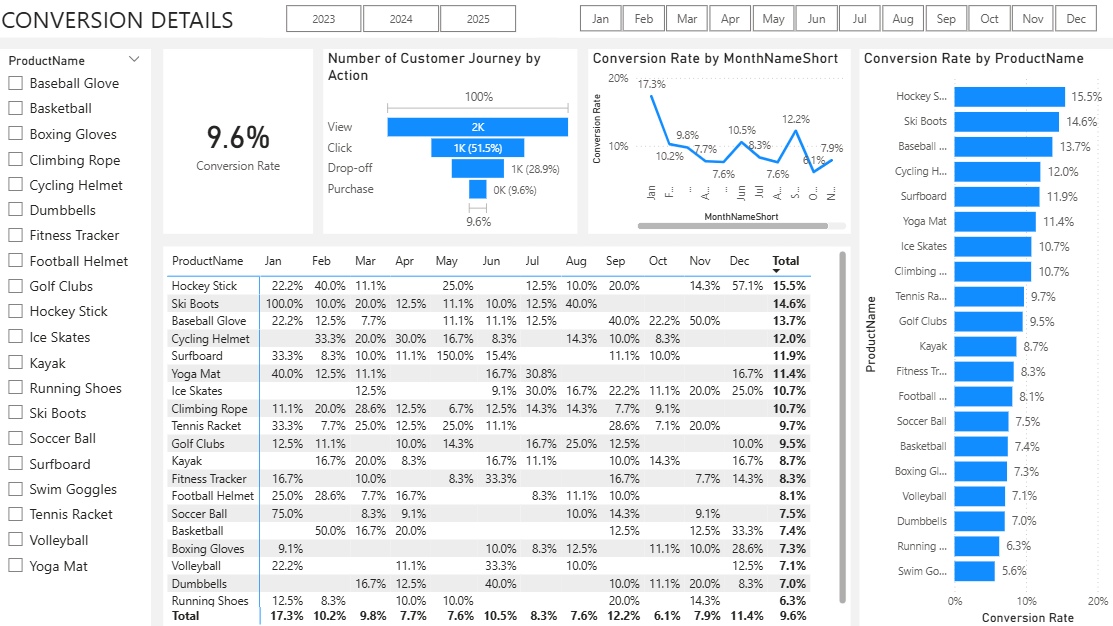

This screenshot's page, from the dashboard's own definition file:
{"tool":"powerbi","page":{"name":"Conversion Details","canvas":[1280,720],"ordinal":1},"visuals":[{"type":"textbox","box":[0,0,1280.3,44],"z":0},{"type":"card","fields":{"Values":["Calculations.Conversion Rate"]},"box":[190,57.1,171.4,211.4],"z":1000},{"type":"slicer","fields":{"Values":["Calendar.MonthNameShort"]},"box":[639.5,0,640.8,44],"z":2000},{"type":"lineChart","fields":{"Y":["Calculations.Conversion Rate"],"Category":["Calendar.MonthNameShort"]},"box":[675.7,57.1,300,211.4],"z":3000},{"type":"clusteredBarChart","fields":{"Category":["dim_products.ProductName"],"Y":["Calculations.Conversion Rate"]},"box":[985.7,57.1,294.3,662.9],"z":4000},{"type":"pivotTable","fields":{"Values":["Calculations.Conversion Rate"],"Rows":["dim_products.ProductName"],"Columns":["Calendar.MonthNameShort"]},"box":[190,282.9,785.7,437.1],"z":5000},{"type":"funnel","fields":{"Y":["Calculations.Number of Customer Journey"],"Category":["fact_customer_journey.Action"]},"box":[372.9,57.1,290,211.4],"z":6000},{"type":"slicer","fields":{"Values":["dim_products.ProductName"]},"box":[0,57.1,175.7,662.9],"z":7000},{"type":"slicer","fields":{"Values":["Calendar.Year"]},"box":[304.3,0,312.9,44.3],"z":8000}]}

Visuals, with their boxes in screenshot pixels (x1, y1, x2, y2), scaled from the page's 1280x720 canvas onto the 1113x626 screenshot:
textbox: rect(0, 0, 1112, 38)
card - Calculations.Conversion Rate: rect(165, 50, 314, 233)
slicer - Calendar.MonthNameShort: rect(556, 0, 1112, 38)
lineChart - Calculations.Conversion Rate x Calendar.MonthNameShort: rect(588, 50, 848, 233)
clusteredBarChart - dim_products.ProductName x Calculations.Conversion Rate: rect(857, 50, 1112, 625)
pivotTable - Calculations.Conversion Rate x dim_products.ProductName: rect(165, 246, 848, 625)
funnel - Calculations.Number of Customer Journey x fact_customer_journey.Action: rect(324, 50, 576, 233)
slicer - dim_products.ProductName: rect(0, 50, 153, 625)
slicer - Calendar.Year: rect(265, 0, 537, 39)
